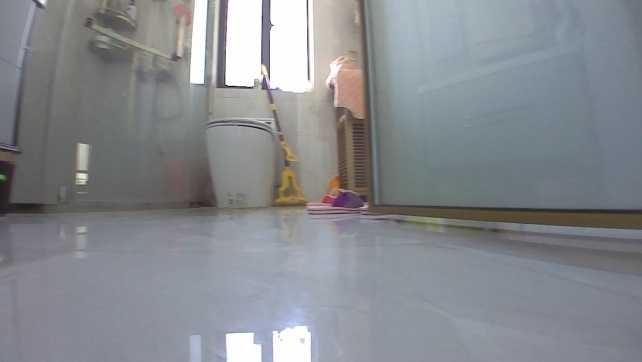slipper: (302, 187, 369, 216)
toilet: (204, 114, 290, 210)
